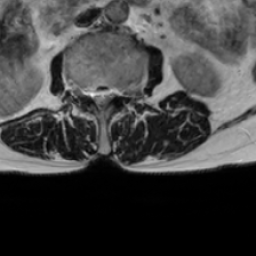CCS_normal: (97, 79, 105, 118)
LFS_normal: (116, 77, 126, 105)
LLS_normal: (105, 82, 115, 108)
RFS_stenosis: (80, 79, 90, 109)
RLS_normal: (88, 82, 97, 107)
